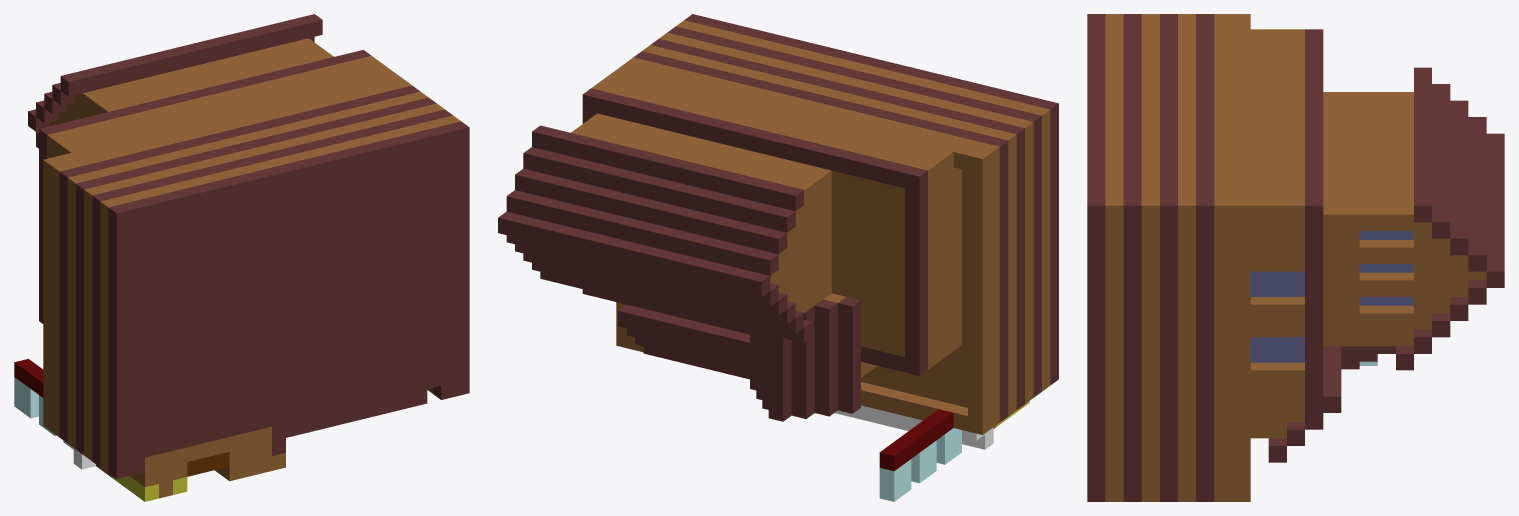
Rendered from yoshida14.fbx.
The picture shows the model from 3 angles, left to right: view 1: azimuth 30°, elevation 25°; view 2: azimuth 150°, elevation 25°; view 3: azimuth 270°, elevation 25°; orthographic projection. The views are drawn at different scales.
Parts seen in each view (by area): view 1: Default; view 2: Default; view 3: Default.
Boxes of the visible parts, x1,y1,x2,y2 form: Default: (14, 14, 469, 501); Default: (498, 14, 1058, 501); Default: (1087, 14, 1504, 501).
Bounding box in the file's own units: 25 × 20 × 23.
Materials: 1 (1 with a texture image).
